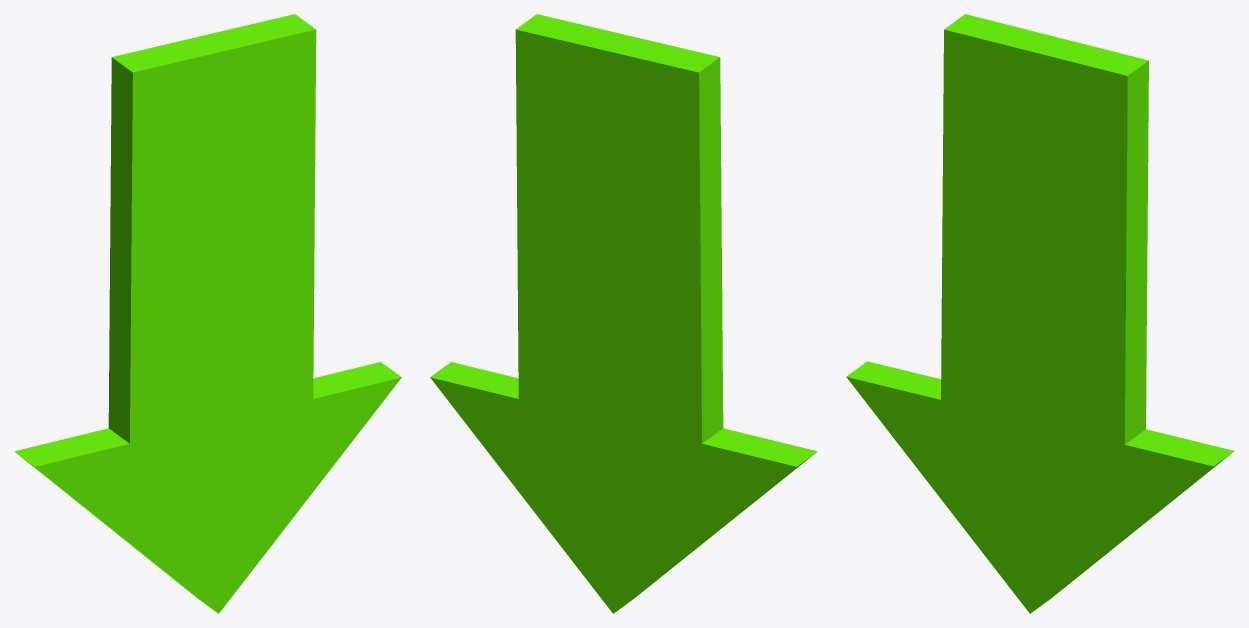
File: arrow_green.fbx
The picture shows the model from 3 angles, left to right: view 1: azimuth 30°, elevation 25°; view 2: azimuth 150°, elevation 25°; view 3: azimuth 330°, elevation 25°; orthographic projection.
Parts seen in each view (by area): view 1: Box2; view 2: Box2; view 3: Box2.
Boxes of the visible parts, x1,y1,x2,y2 form: Box2: [14, 14, 401, 613]; Box2: [430, 14, 817, 613]; Box2: [846, 14, 1234, 613].
Size of the model in its own units: 100 by 147 by 10.
